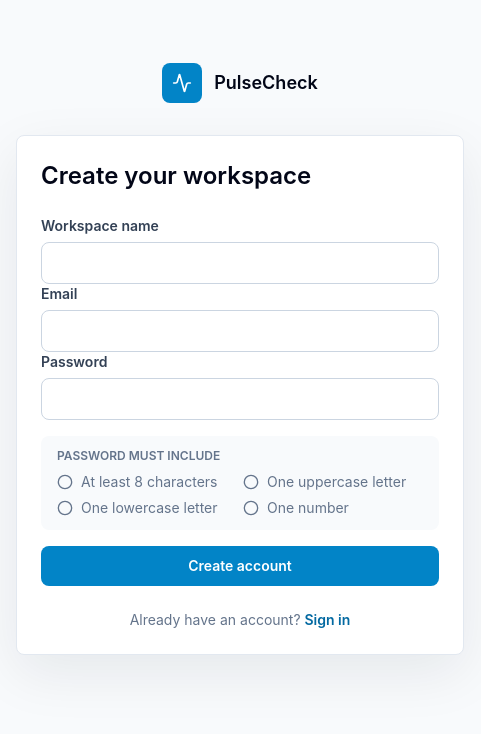
LoginPage › shows a friendly duplicate email message on registration
Type "Acme Ops" into the field labelled "Workspace name".
click(240, 263); type("Acme Ops")  # box top-left (41, 242), bottom-right (439, 284)
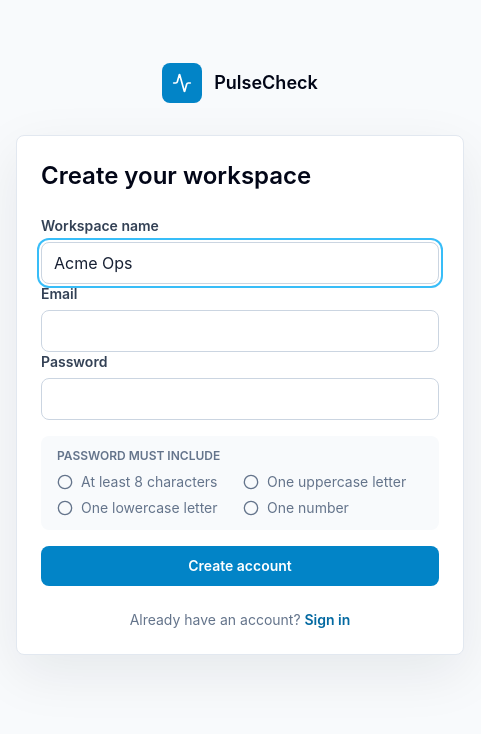
Type "ops@example.com" into the field labelled "Email".
click(240, 331); type("ops@example.com")  # box top-left (41, 310), bottom-right (439, 352)
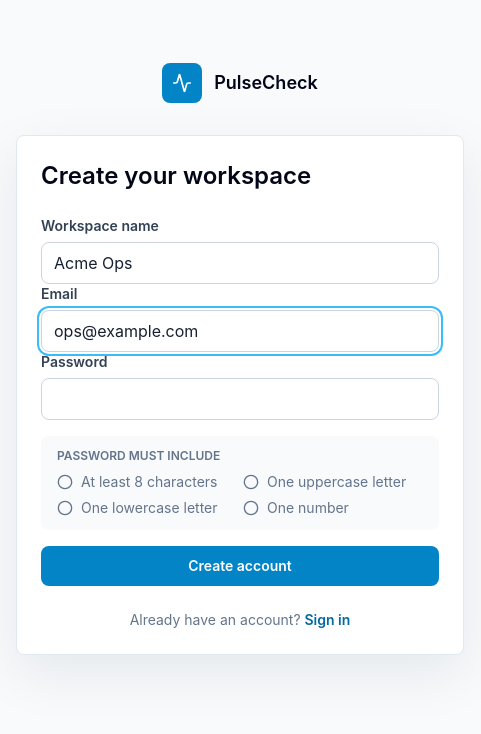
Type "Password1" into the password field labelled "Password".
click(240, 399); type("Password1")  # box top-left (41, 378), bottom-right (439, 420)
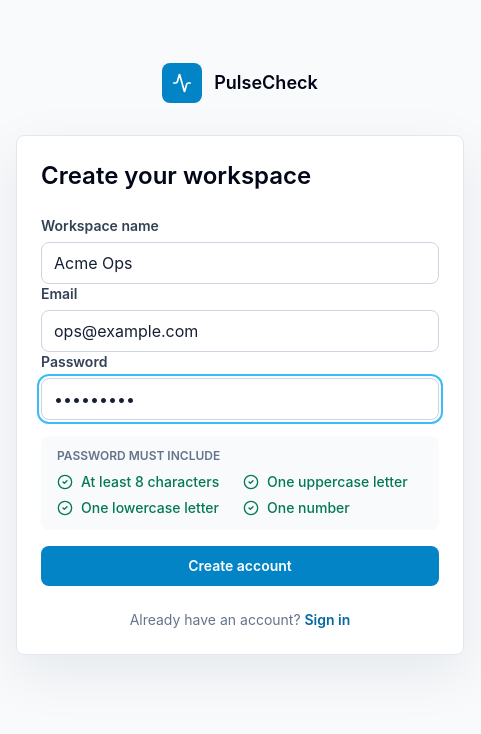
Click the button "Create account".
click(240, 566)  # box top-left (41, 546), bottom-right (439, 586)
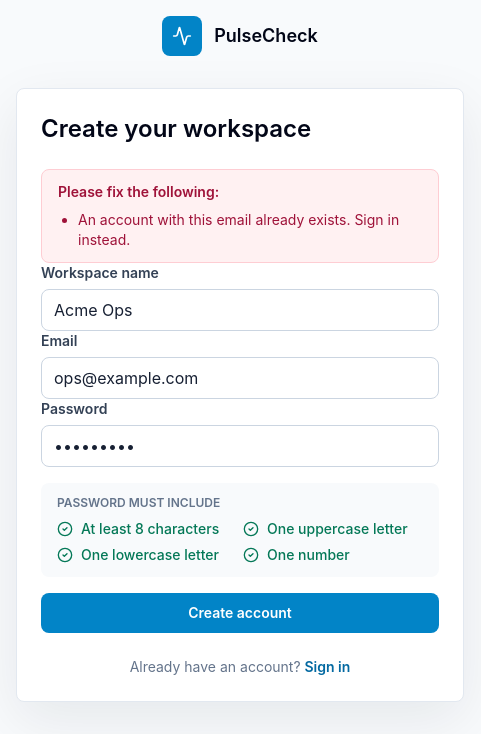
Now the list item "An account with this email already exists. Sign in instead." is shown, box top-left (78, 210), bottom-right (422, 250)
